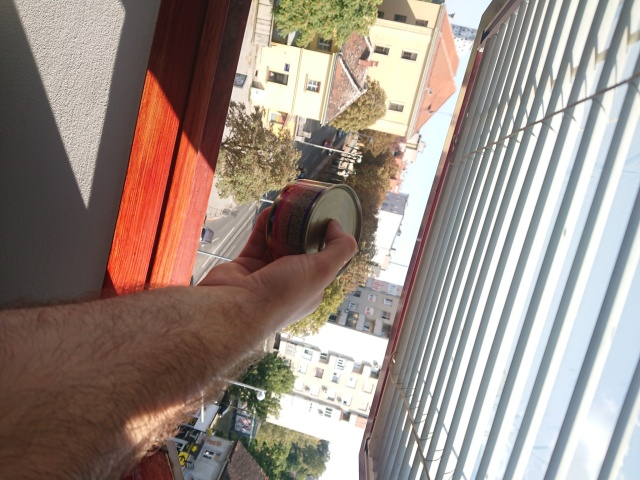Giana Tuna Salad Mexico 185g: (263, 176, 365, 278)
